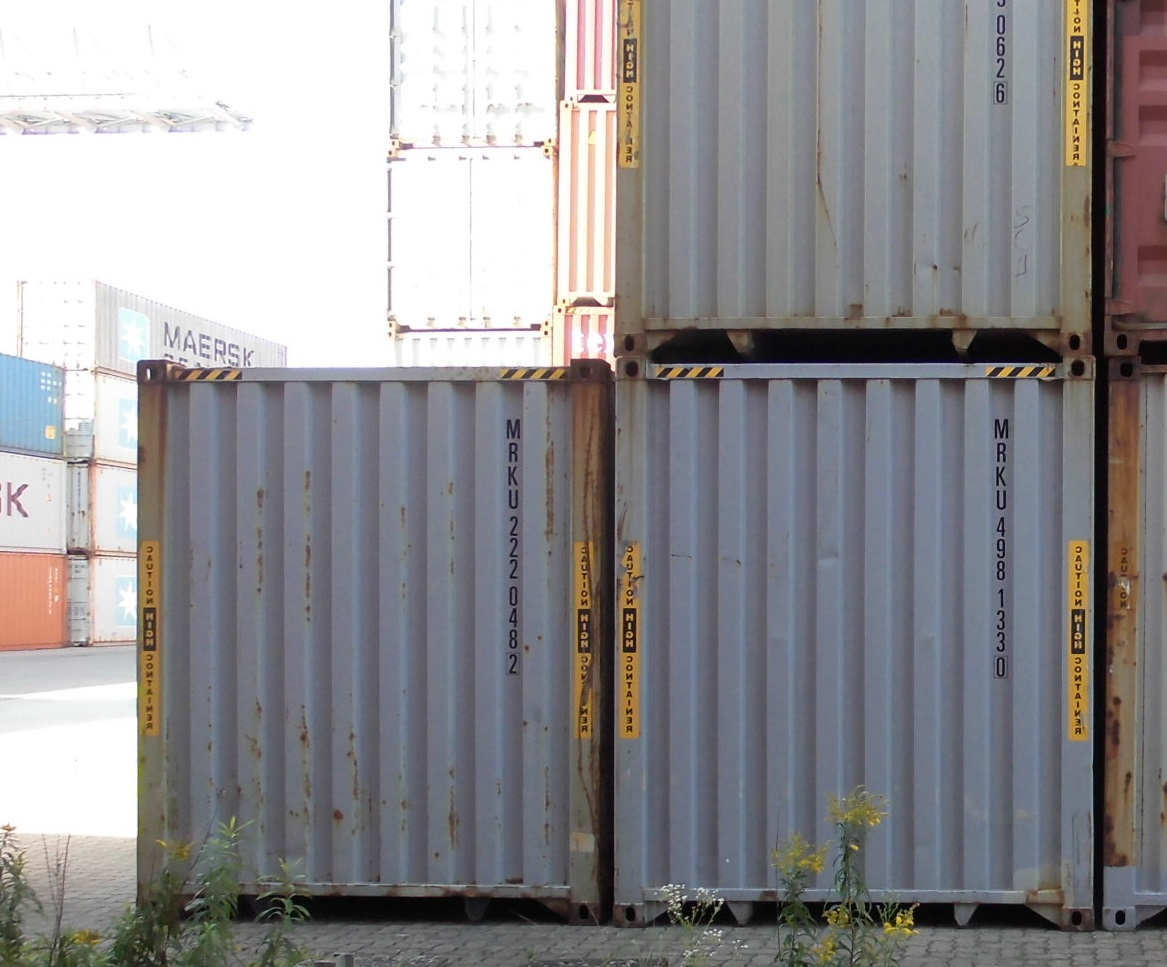container_no_door: (615, 354, 1093, 927), (139, 354, 597, 922), (611, 1, 1093, 352)
